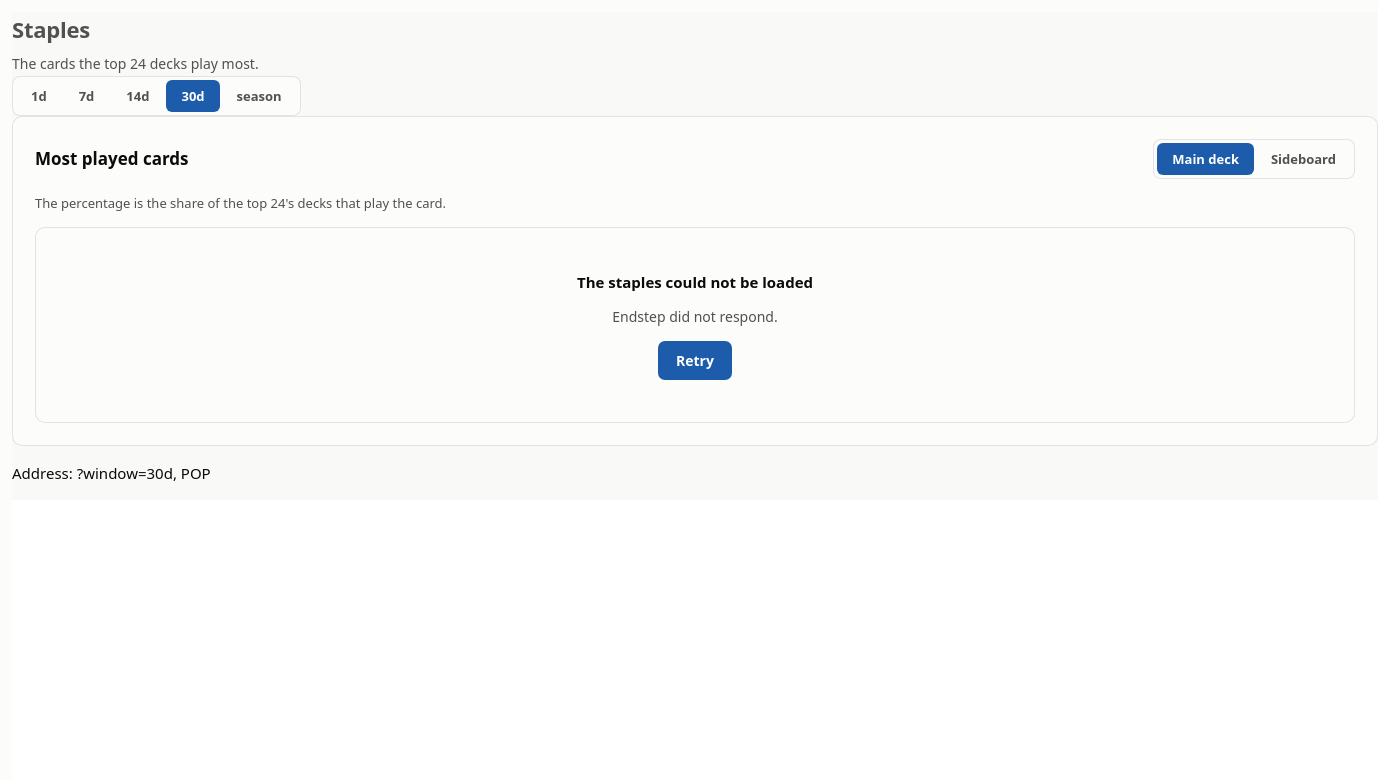
StaplesPage › does not retry a failed build on its own, and retries when asked
Expected: the heading "The staples could not be loaded" is shown, [577,270,813,294]
Click the button "Retry" at (695, 360), box [658,341,732,380]
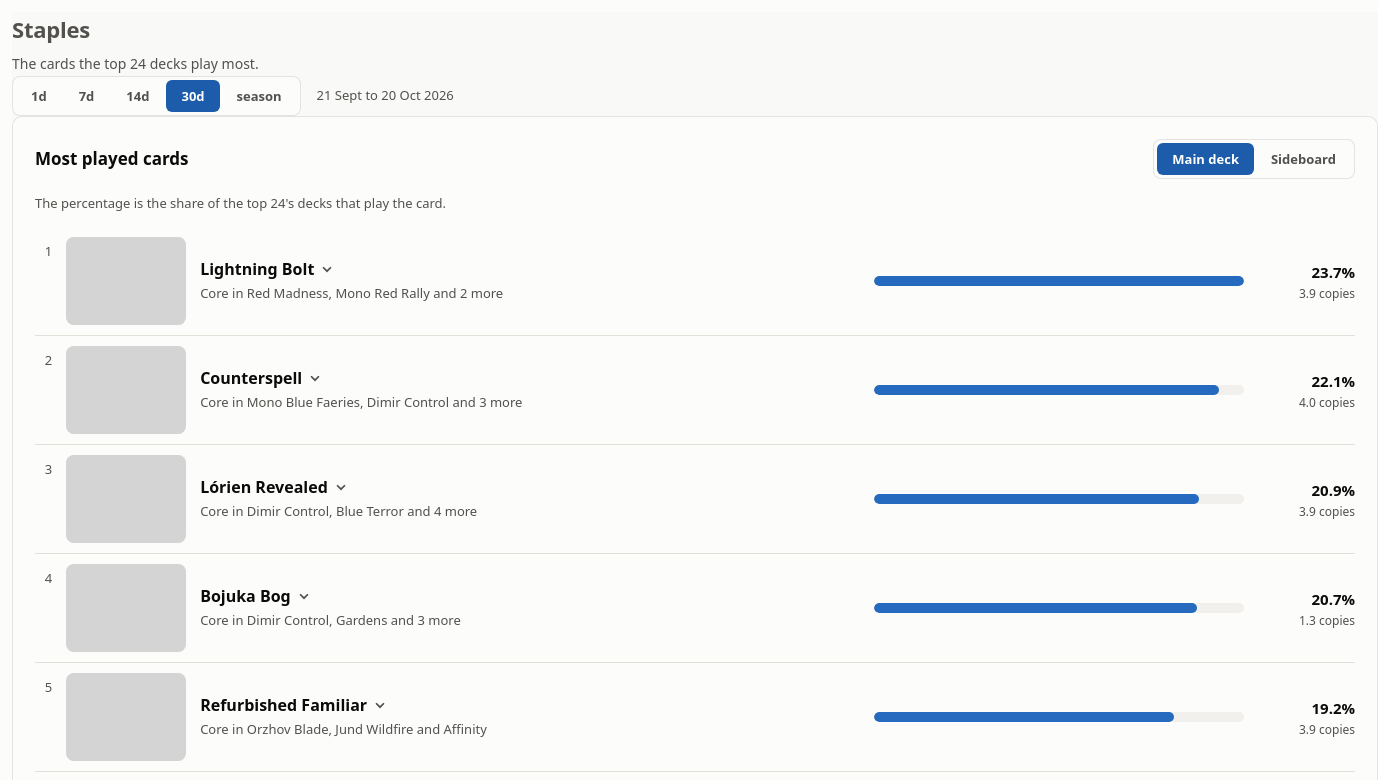
Expected: the text "Lightning Bolt" is shown, [200,259,314,279]
